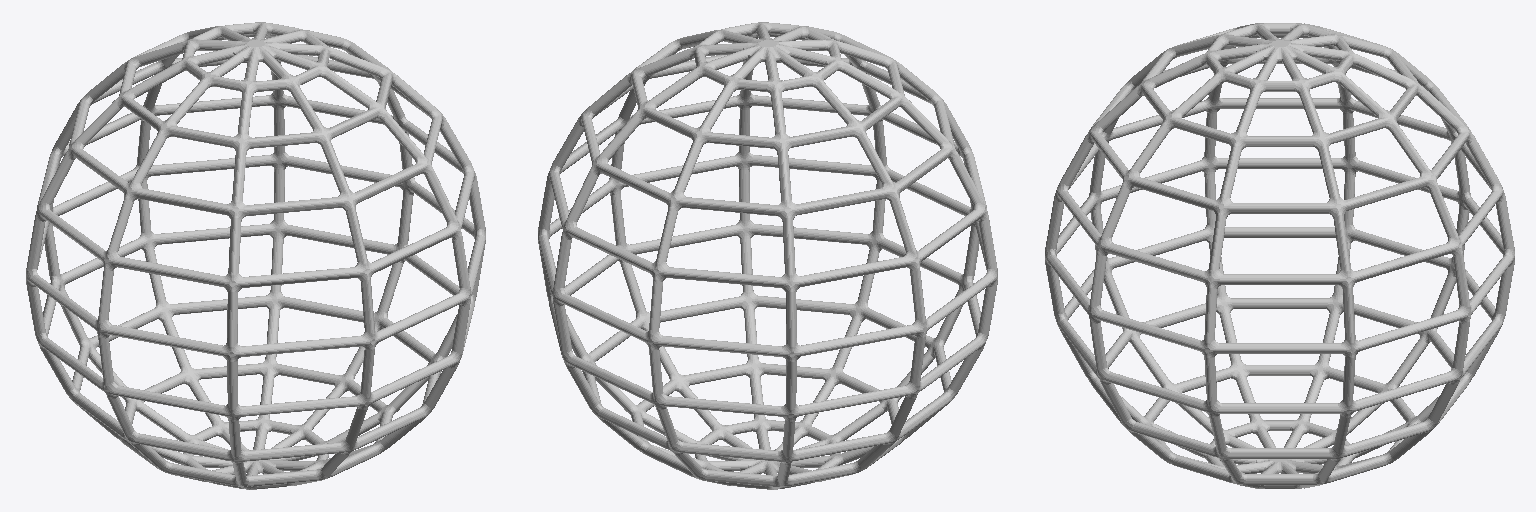
The model's file is custom-3d-web-icon.obj.
3 renders of one model, left to right at view 1: azimuth 30°, elevation 25°; view 2: azimuth 150°, elevation 25°; view 3: azimuth 270°, elevation 25°, orthographic.
Visible parts, largest first — view 1: Sphere; view 2: Sphere; view 3: Sphere.
Boxes of the visible parts, x1=… form: Sphere: x1=26, y1=22, x2=485, y2=489; Sphere: x1=538, y1=22, x2=997, y2=489; Sphere: x1=1045, y1=23, x2=1514, y2=488.
Size of the model in its own units: 1.95 by 2.03 by 2.04.